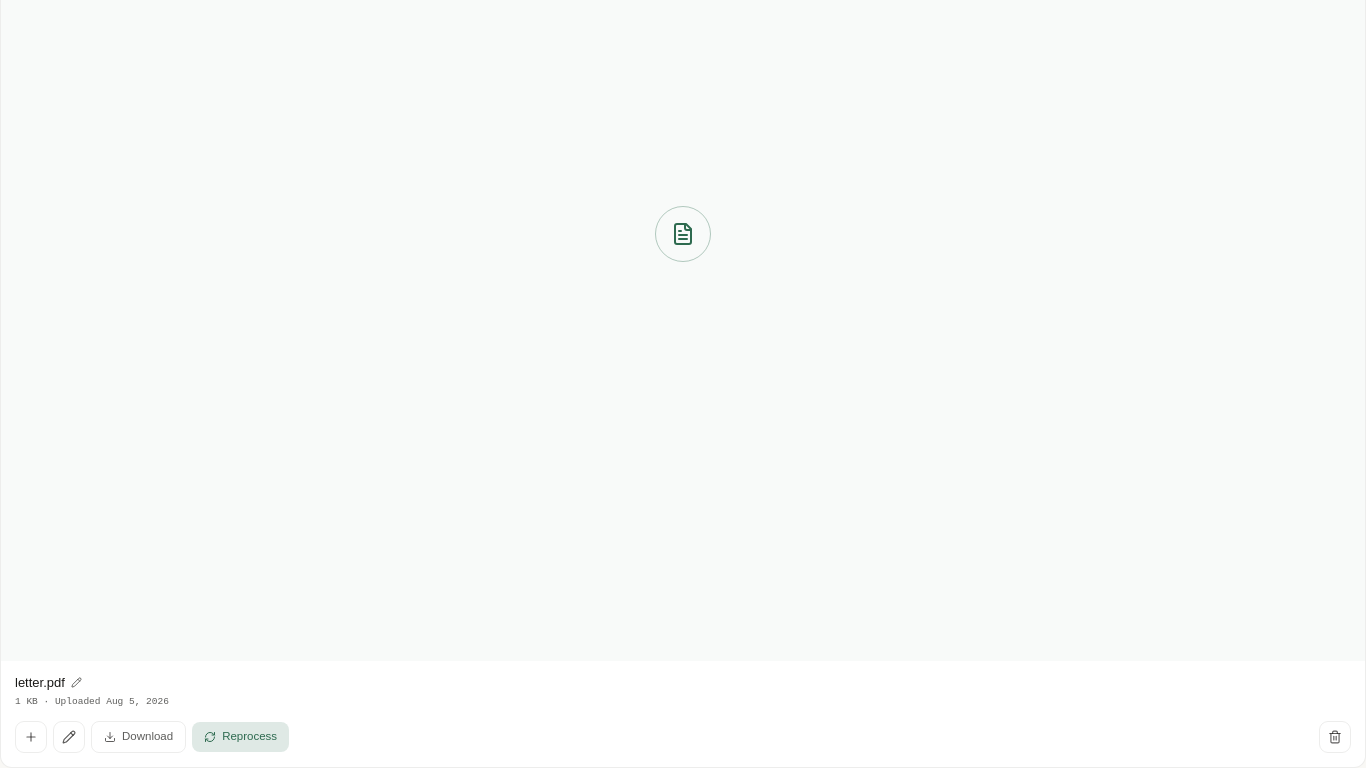
Test case: MediaCard — lazyload, metadata line, and rename (Aug 2026 Atomic Updates/09_media_metadata_lazyload) › Escape cancels the rename without committing, reverting to the original name
The width and height of the screenshot is (1366, 768).
(page scrolled)
Step 1. Click the button with aria-label "Rename file" → (40, 682), box left=15, top=674, right=1351, bottom=691
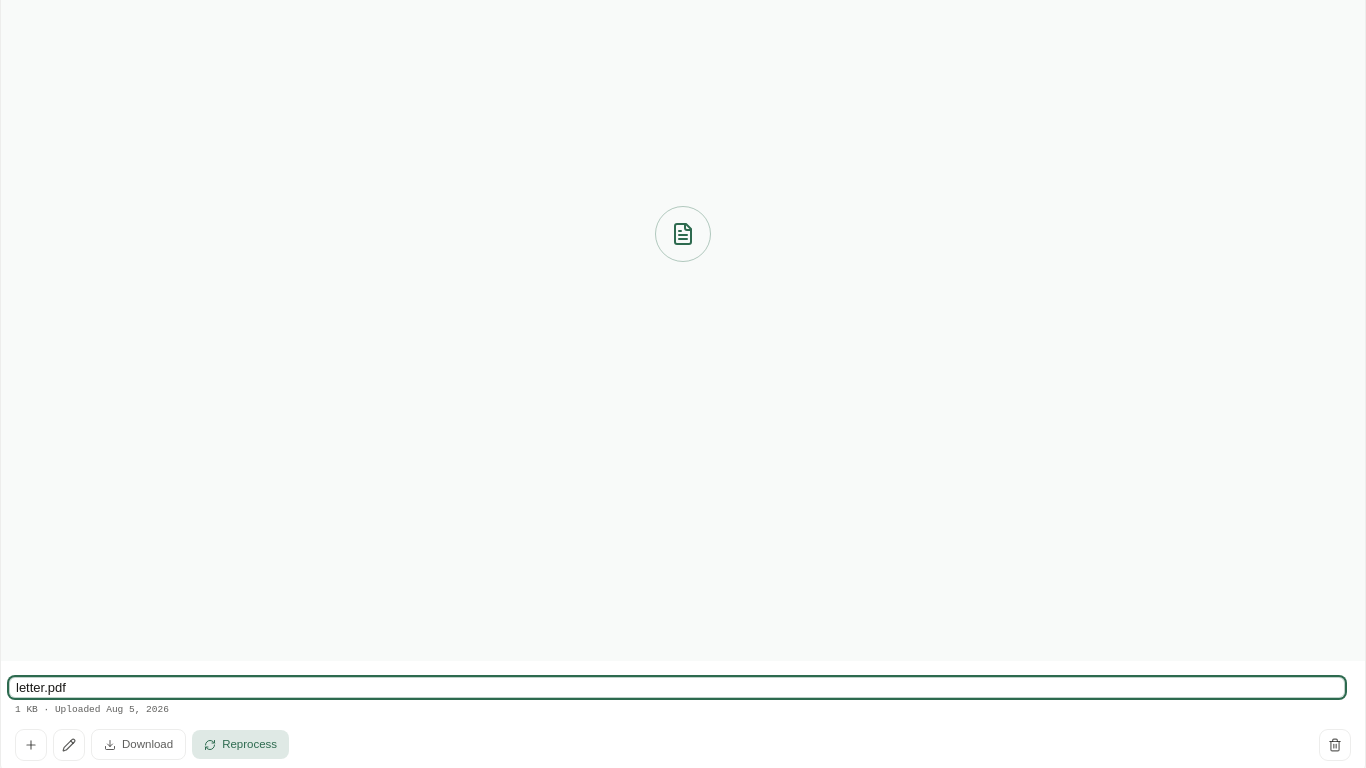
Step 2. Replace the text in the field showing "letter.pdf" with "oops.pdf" → (677, 687), box left=9, top=676, right=1345, bottom=698
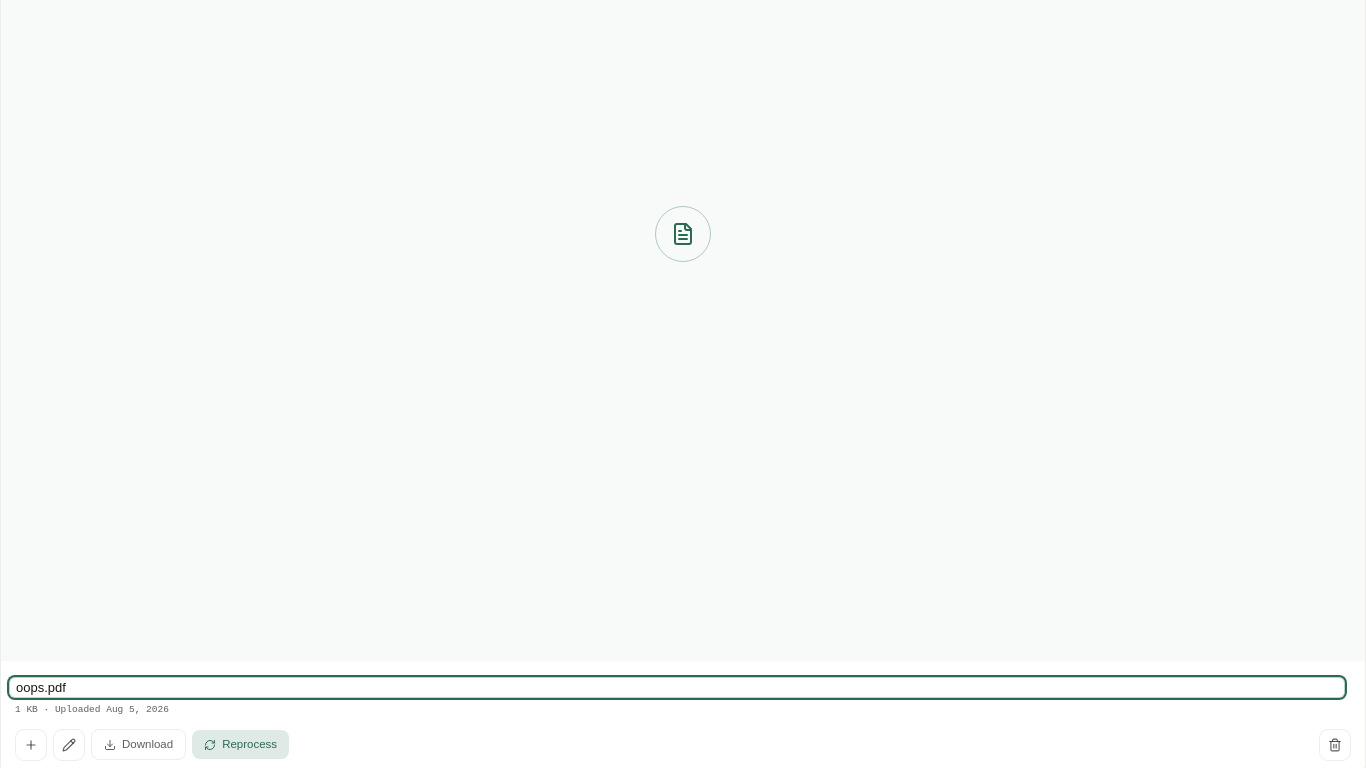
Step 3. Press Escape in the field showing "letter.pdf", box left=9, top=676, right=1345, bottom=698
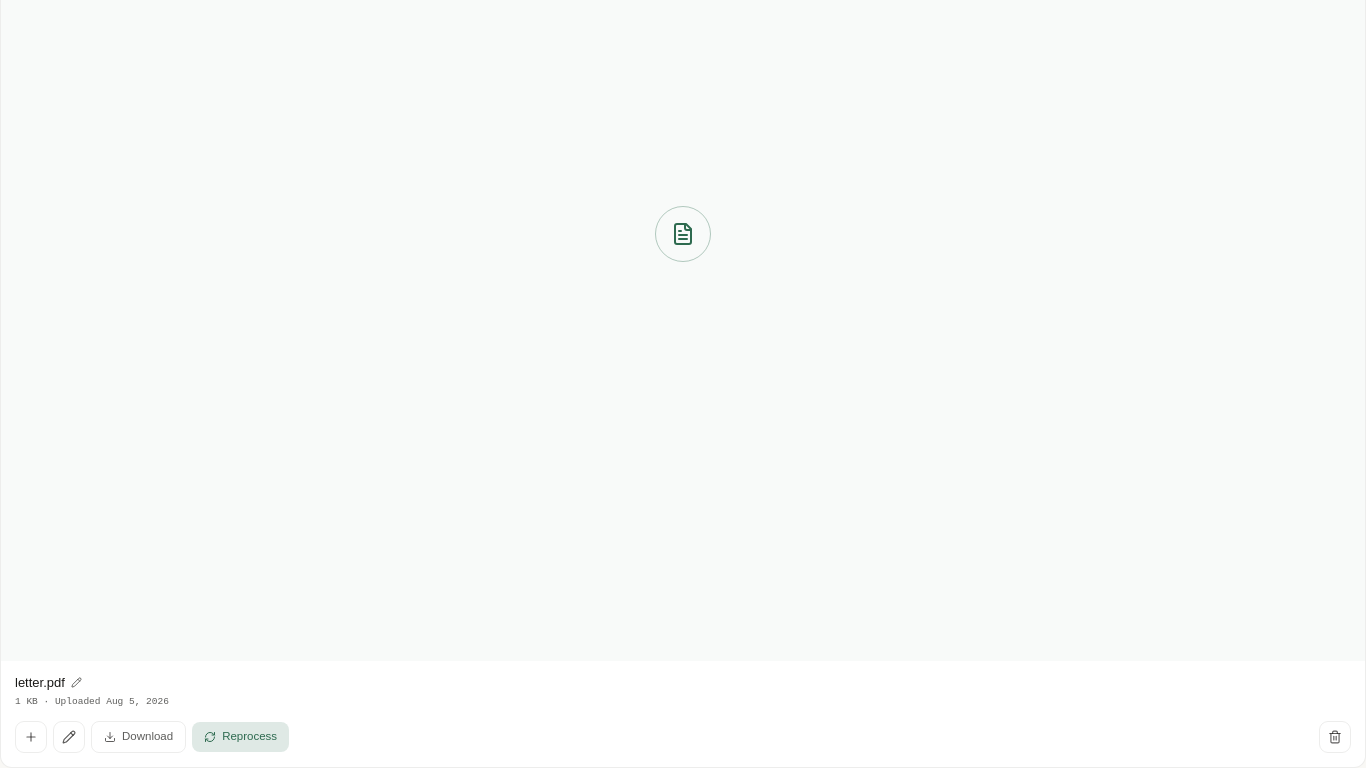
Expected: the button with aria-label "Rename file" reads "letter.pdf", left=15, top=674, right=1351, bottom=691
